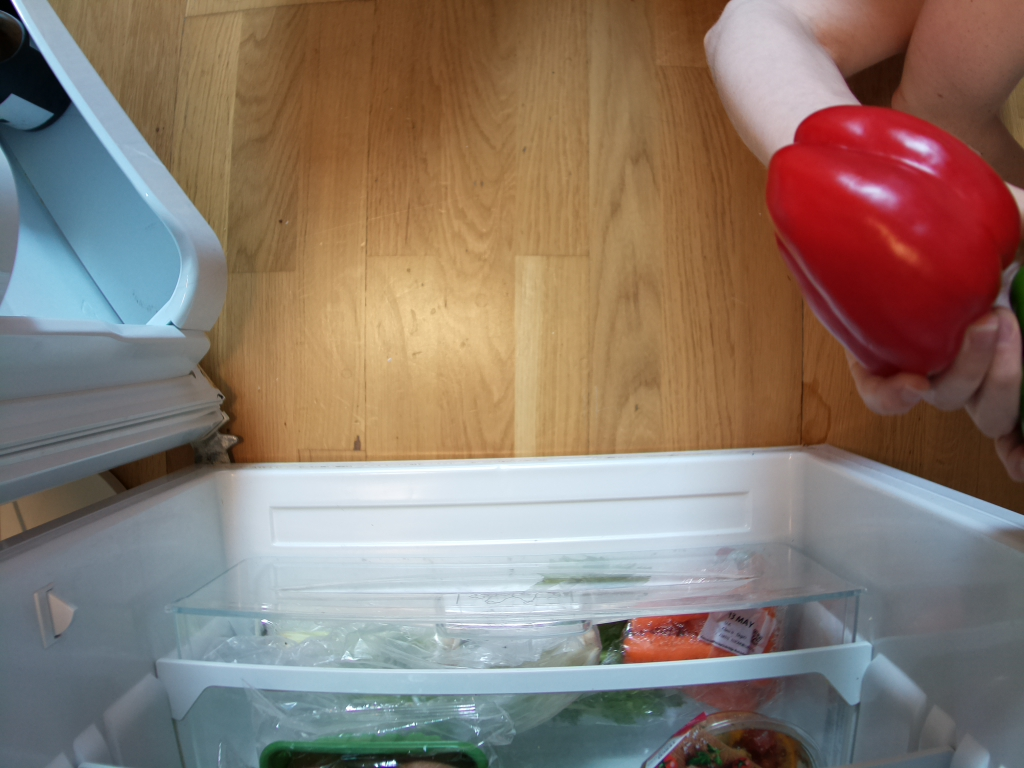pepper: (764, 104, 1024, 378)
